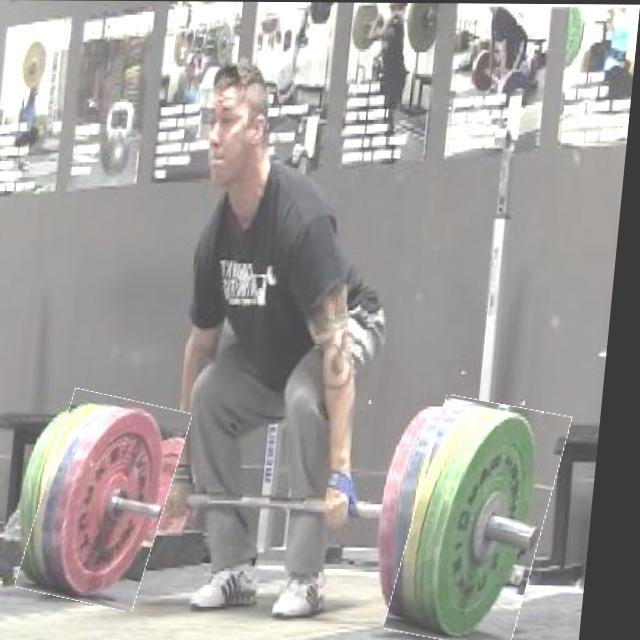barbell: (407, 399, 573, 640), (36, 393, 193, 607)
